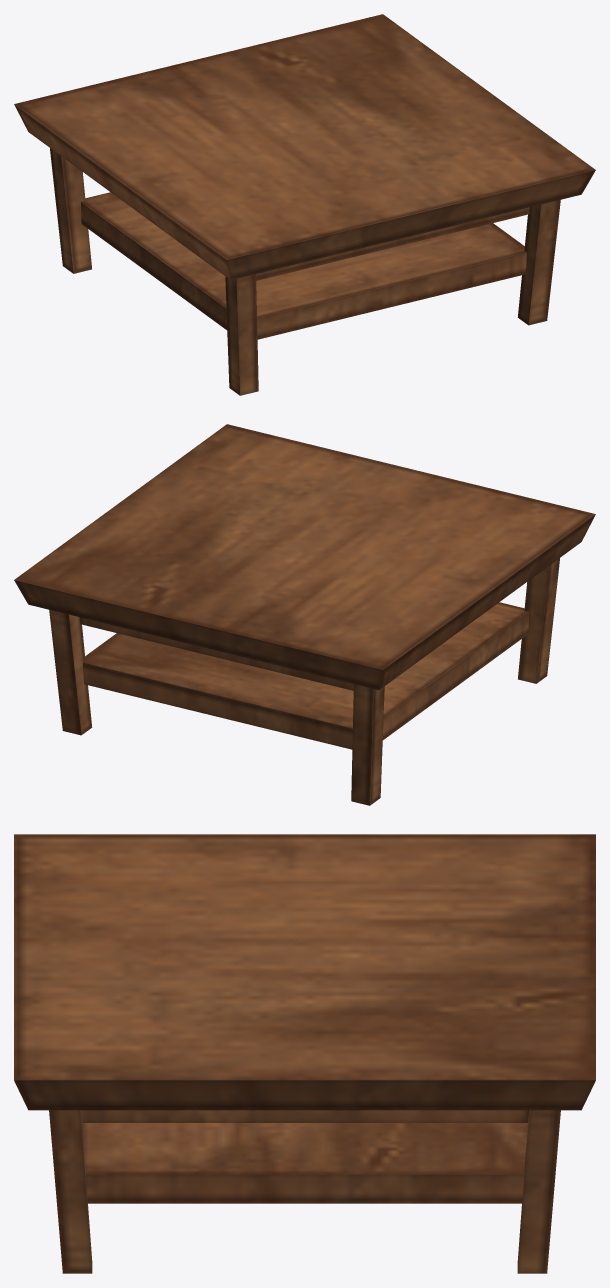
File: SM_SYD_CoffeeTable01.fbx
The picture shows the model from 3 angles, top to bottom: view 1: azimuth 30°, elevation 25°; view 2: azimuth 150°, elevation 25°; view 3: azimuth 270°, elevation 25°; orthographic projection. The views are drawn at different scales.
Visible parts, largest first — view 1: SM_SYD_CoffeeTable01; view 2: SM_SYD_CoffeeTable01; view 3: SM_SYD_CoffeeTable01.
Boxes of the visible parts, x1,y1,x2,y2 form: SM_SYD_CoffeeTable01: (14,14,595,395); SM_SYD_CoffeeTable01: (14,424,595,805); SM_SYD_CoffeeTable01: (14,834,595,1273).
Size of the model in its own units: 147 by 59.65 by 147.
